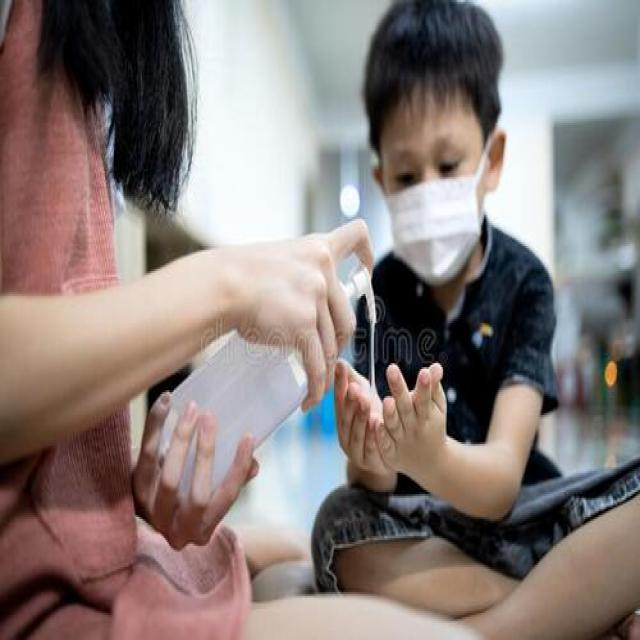sanitizer: (160, 258, 374, 416)
